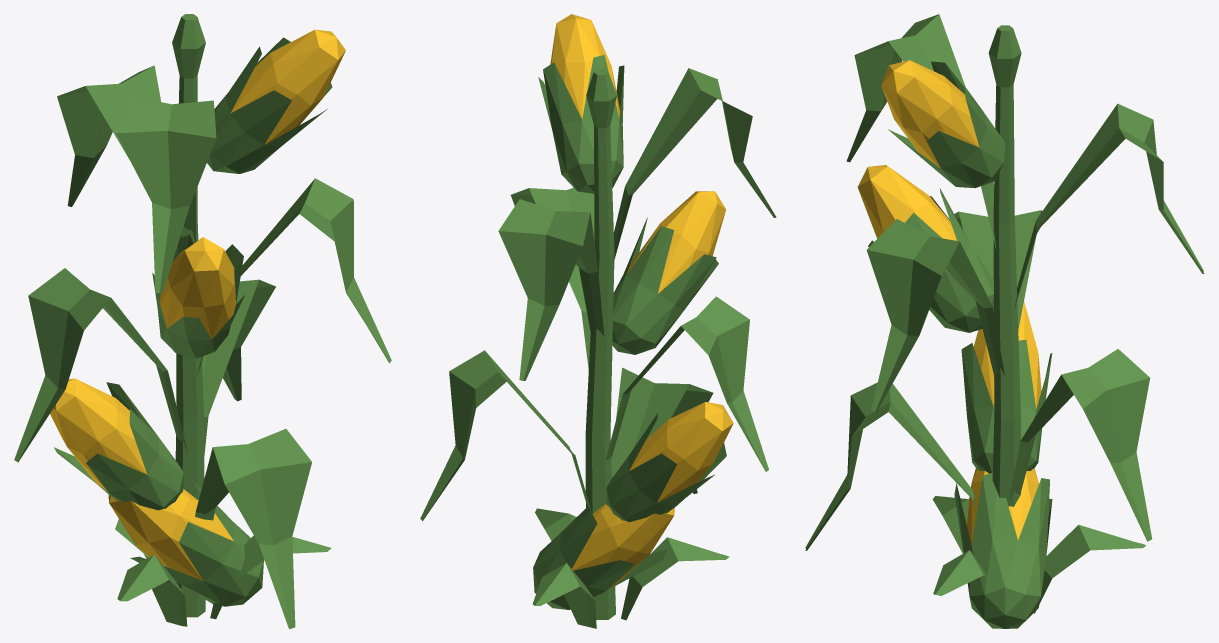
File: Corn.fbx
The picture shows the model from 3 angles, left to right: view 1: azimuth 30°, elevation 25°; view 2: azimuth 150°, elevation 25°; view 3: azimuth 270°, elevation 25°; orthographic projection. The views are drawn at different scales.
Parts seen in each view (by area): view 1: Corn_Plant, Corn.002, Corn.000, Corn_Crop, Corn.001, Corn_Sprout; view 2: Corn_Plant, Corn.001, Corn.000, Corn.002, Corn_Crop, Corn_Sprout; view 3: Corn_Plant, Corn_Crop, Corn.002, Corn.001, Corn.000, Corn_Sprout.
Part boxes in pixels (x1=…): Corn_Plant: x1=14, y1=14, x2=391, y2=628; Corn.002: x1=207, y1=29, x2=345, y2=173; Corn.000: x1=50, y1=378, x2=183, y2=510; Corn_Crop: x1=108, y1=480, x2=263, y2=606; Corn.001: x1=152, y1=234, x2=244, y2=358; Corn_Sprout: x1=117, y1=535, x2=331, y2=626; Corn_Plant: x1=420, y1=68, x2=776, y2=619; Corn.001: x1=612, y1=191, x2=725, y2=354; Corn.000: x1=606, y1=402, x2=733, y2=522; Corn.002: x1=538, y1=14, x2=624, y2=193; Corn_Crop: x1=533, y1=503, x2=674, y2=609; Corn_Sprout: x1=532, y1=508, x2=729, y2=628; Corn_Plant: x1=805, y1=14, x2=1204, y2=550; Corn_Crop: x1=954, y1=468, x2=1052, y2=628; Corn.002: x1=881, y1=60, x2=1005, y2=187; Corn.001: x1=857, y1=165, x2=993, y2=332; Corn.000: x1=961, y1=302, x2=1052, y2=473; Corn_Sprout: x1=932, y1=496, x2=1146, y2=613.
Size of the model in its own units: 1.11 by 2.04 by 1.25.
